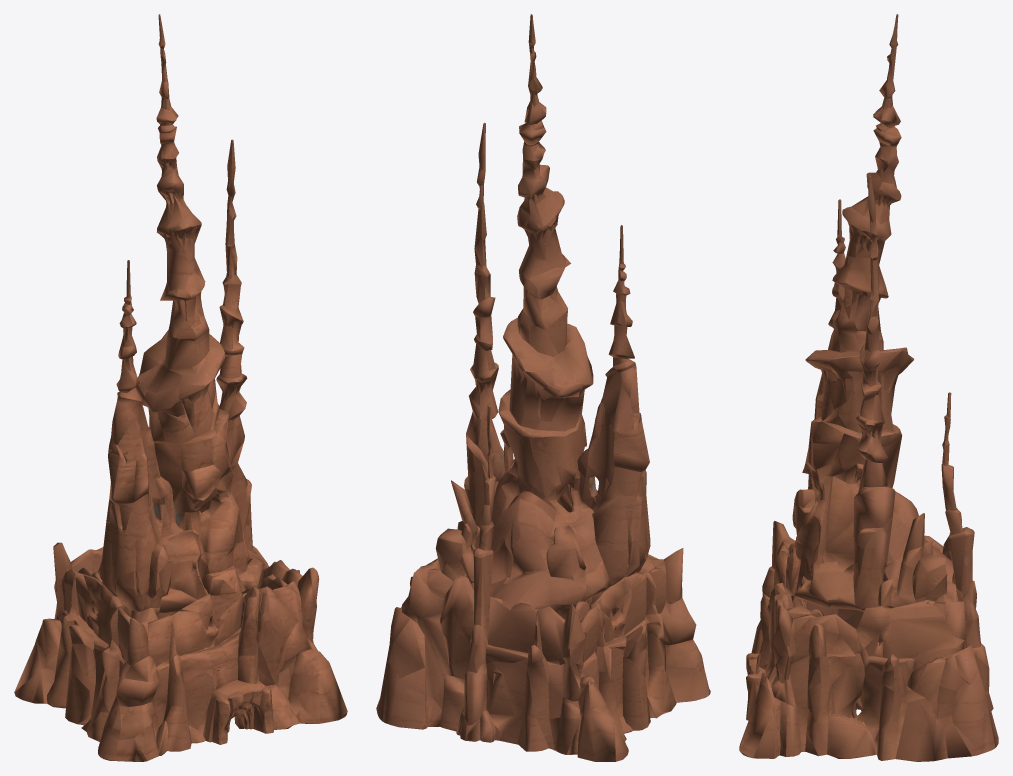
The model's file is foundry.lod1.glb.
3 renders of one model, left to right at view 1: azimuth 30°, elevation 25°; view 2: azimuth 150°, elevation 25°; view 3: azimuth 270°, elevation 25°, orthographic. The views are drawn at different scales.
Parts seen in each view (by area): view 1: foundry-centred; view 2: foundry-centred; view 3: foundry-centred.
Boxes of the visible parts, bbox=[...] form: foundry-centred: bbox=[14, 14, 347, 761]; foundry-centred: bbox=[376, 14, 710, 761]; foundry-centred: bbox=[739, 14, 998, 761].
Bounding box in the file's own units: 37.34 × 99.99 × 34.23.
Materials: 1 (1 with a texture image).
